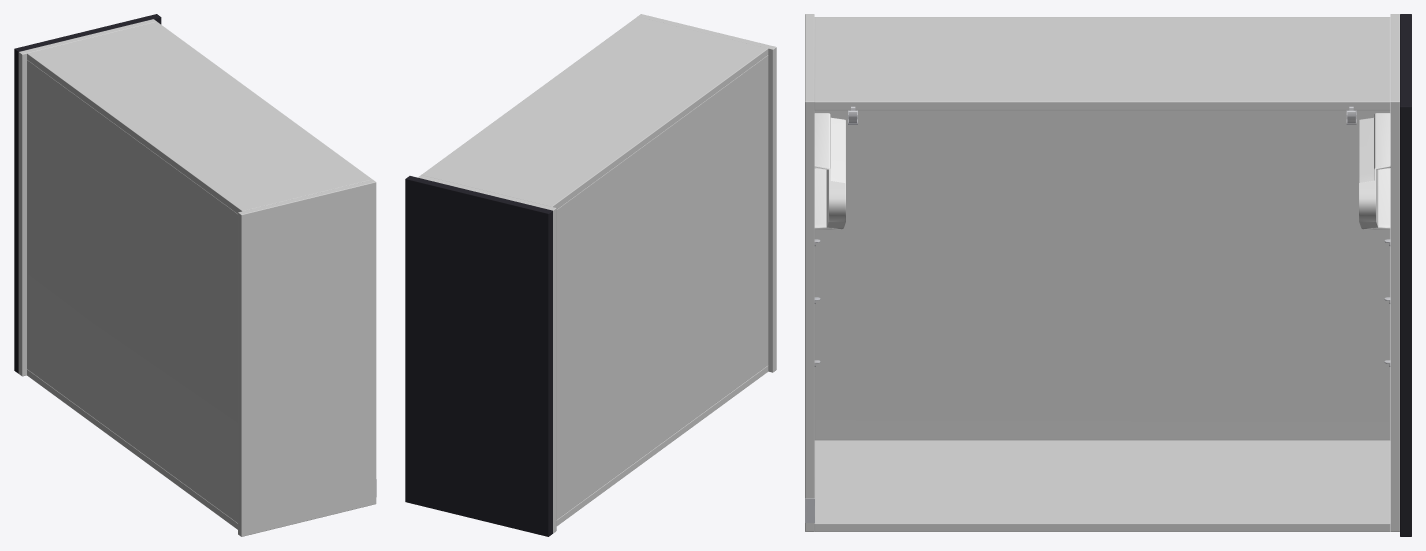
Rendered from Kitchen04Base.fbx.
3 views of the same model, side by side, from view 1: azimuth 30°, elevation 25°; view 2: azimuth 150°, elevation 25°; view 3: azimuth 270°, elevation 25° (orthographic). The views are drawn at different scales.
Parts seen in each view (by area): view 1: Kitchen04Base; view 2: Kitchen04Base; view 3: Kitchen04Base.
Part boxes in pixels (x1,y1,x2,y2): Kitchen04Base: [14, 14, 376, 536]; Kitchen04Base: [405, 14, 776, 536]; Kitchen04Base: [805, 14, 1411, 536].
Size of what is drawn, in the model's own units: 37 by 102 by 79.8.
4 materials, 1 textured.
